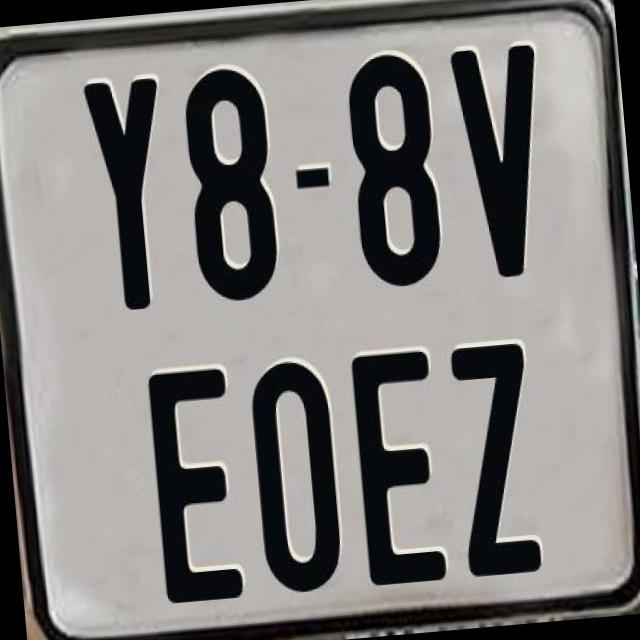0: (247, 353, 348, 598)
8: (178, 63, 286, 310), (343, 48, 448, 295)
E: (349, 346, 452, 590), (142, 368, 240, 610)
V: (449, 43, 560, 284)
Y: (78, 75, 172, 315)
Z: (446, 338, 544, 579)
